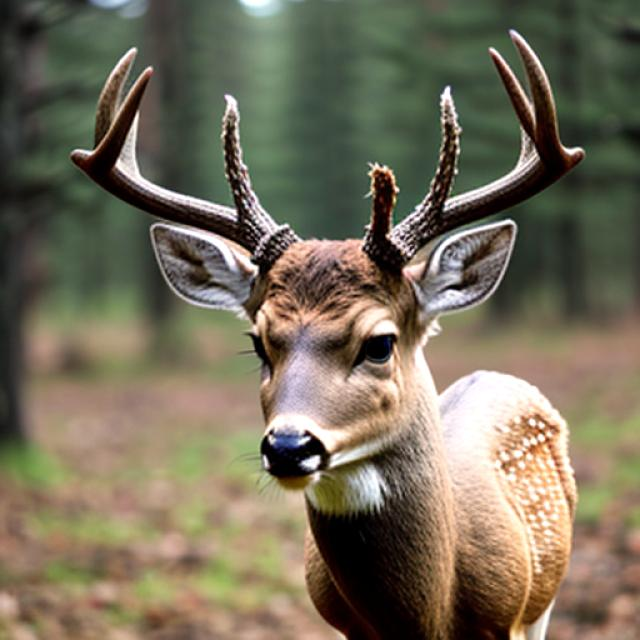deer: (62, 20, 640, 640)
